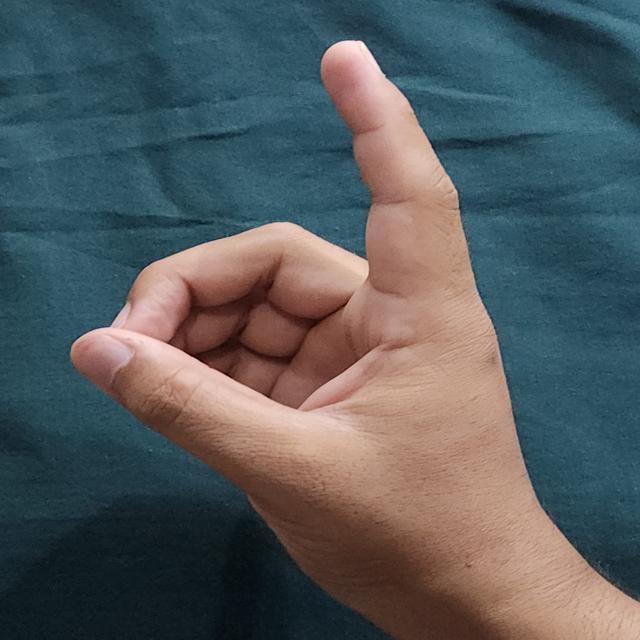ح: (65, 22, 640, 619)
